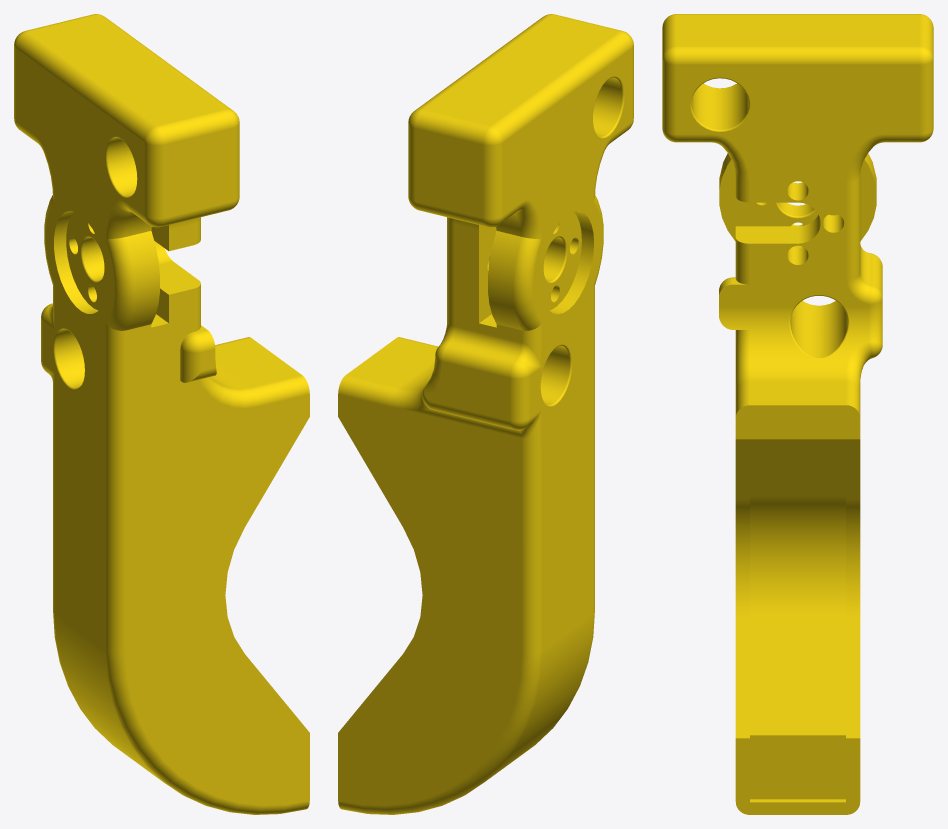
The model's file is A_H_2_Left_Claw.gltf.
3 renders of one model, left to right at view 1: azimuth 30°, elevation 25°; view 2: azimuth 150°, elevation 25°; view 3: azimuth 270°, elevation 25°, orthographic. The views are drawn at different scales.
Visible parts, largest first — view 1: mesh32703, mesh32681, mesh32633, mesh32605, mesh32627, mesh32608, mesh32607, mesh32631, mesh32696, mesh32600, mesh32604, mesh32591 (+15 smaller); view 2: mesh32706, mesh32681, mesh32633, mesh32639, mesh32676, mesh32608, mesh32675, mesh32631, mesh32667, mesh32654, mesh32696, mesh32601 (+22 smaller); view 3: mesh32719, mesh32713, mesh32718, mesh32633, mesh32695, mesh32712, mesh32716, mesh32634, mesh32699, mesh32709, mesh32599, mesh32700 (+17 smaller).
Part boxes in pixels (x1,y1,x2,y2): mesh32703: [126, 289, 309, 805]; mesh32681: [16, 48, 144, 650]; mesh32633: [29, 15, 224, 125]; mesh32605: [105, 323, 125, 653]; mesh32627: [165, 128, 232, 217]; mesh32608: [55, 614, 162, 781]; mesh32607: [105, 651, 309, 814]; mesh32631: [16, 32, 156, 142]; mesh32696: [215, 338, 301, 387]; mesh32600: [126, 231, 159, 330]; mesh32604: [106, 237, 134, 330]; mesh32591: [66, 212, 106, 310]; mesh32706: [338, 394, 521, 805]; mesh32681: [503, 48, 631, 650]; mesh32633: [423, 15, 618, 125]; mesh32639: [415, 128, 482, 217]; mesh32676: [522, 410, 542, 653]; mesh32608: [485, 614, 592, 781]; mesh32675: [338, 651, 542, 814]; mesh32631: [491, 32, 631, 142]; mesh32667: [430, 362, 509, 420]; mesh32654: [454, 224, 521, 342]; mesh32696: [346, 338, 437, 387]; mesh32601: [488, 231, 521, 330]; mesh32719: [676, 65, 919, 306]; mesh32713: [750, 615, 845, 735]; mesh32718: [750, 496, 845, 615]; mesh32633: [676, 15, 919, 46]; mesh32695: [719, 306, 868, 381]; mesh32712: [750, 735, 845, 799]; mesh32716: [750, 446, 845, 495]; mesh32634: [676, 46, 919, 64]; mesh32699: [735, 405, 860, 439]; mesh32709: [735, 738, 860, 814]; mesh32599: [719, 159, 876, 241]; mesh32700: [790, 301, 847, 357].
Bounding box in the file's own units: 0.0483 × 0.1773 × 0.061.
